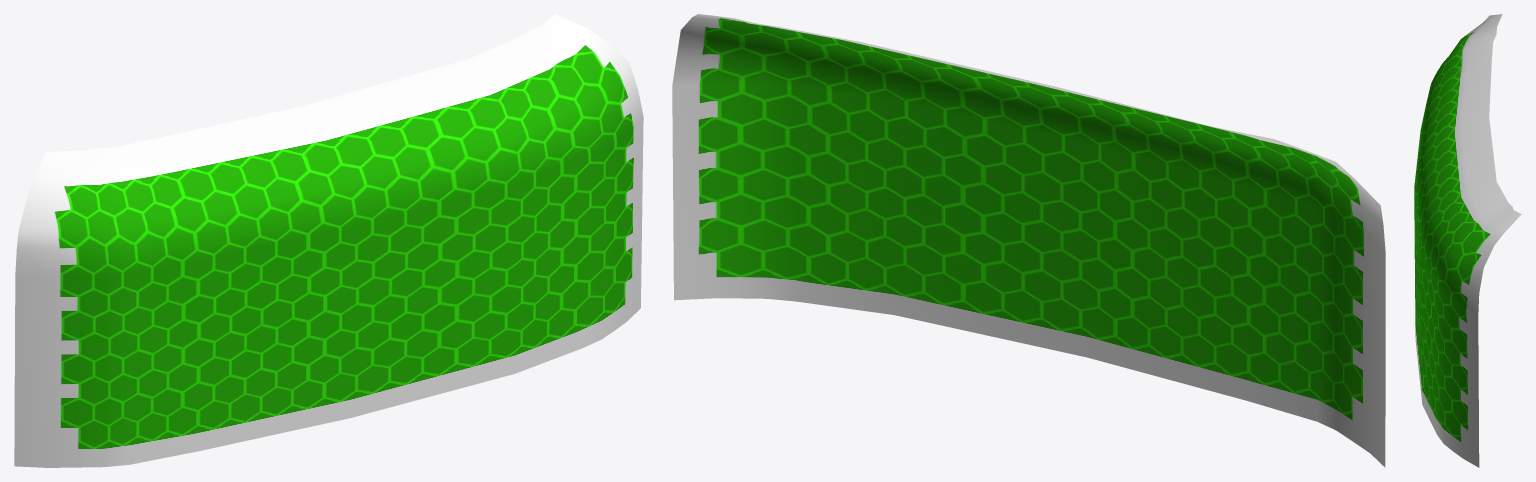
Rendered from Shield.fbx.
3 renders of one model, left to right at view 1: azimuth 30°, elevation 25°; view 2: azimuth 150°, elevation 25°; view 3: azimuth 270°, elevation 25°, orthographic. The views are drawn at different scales.
Visible parts, largest first — view 1: Shield1; view 2: Shield1; view 3: Shield1.
Part boxes in pixels (left/top/right/bottom): Shield1: left=14, top=14, right=643, bottom=467; Shield1: left=672, top=14, right=1385, bottom=467; Shield1: left=1414, top=14, right=1521, bottom=467.
Size of the model in its own units: 337 by 147 by 62.05.
